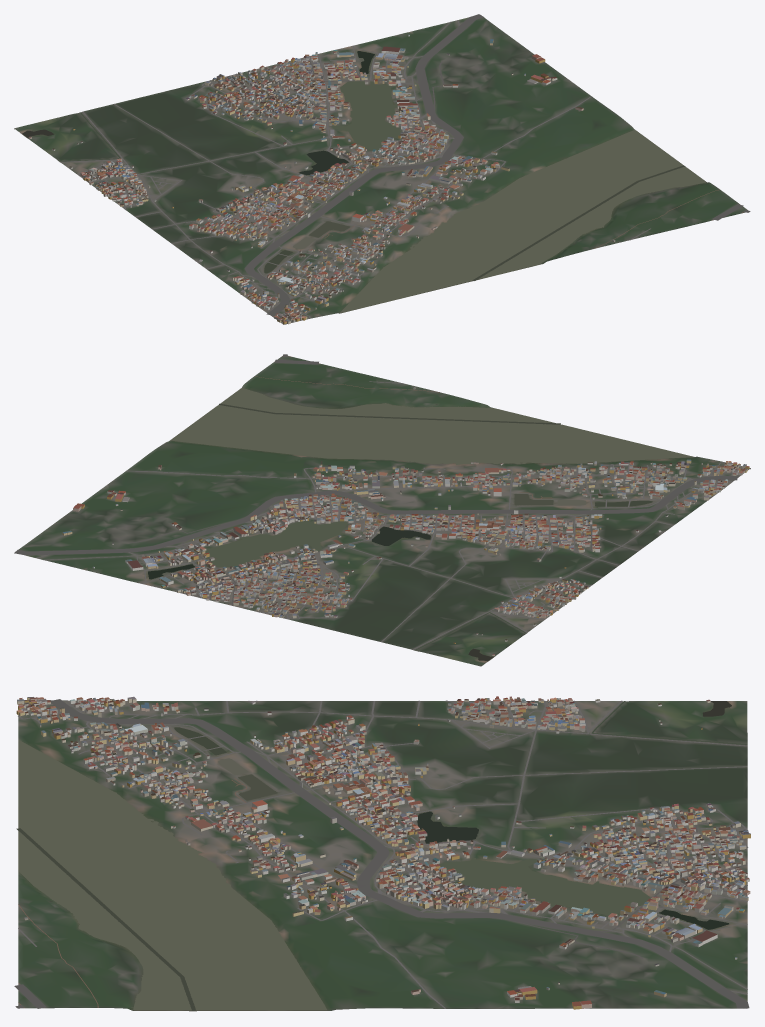
The picture shows the model from 3 angles, top to bottom: view 1: azimuth 30°, elevation 25°; view 2: azimuth 150°, elevation 25°; view 3: azimuth 270°, elevation 25°; orthographic projection. The views are drawn at different scales.
Parts seen in each view (by area): view 1: ground, water, buildings, roads; view 2: ground, water, buildings, roads; view 3: ground, water, buildings, roads.
Boxes of the visible parts, x1=… form: ground: x1=14, y1=17, x2=747, y2=324; water: x1=22, y1=51, x2=706, y2=312; buildings: x1=28, y1=34, x2=615, y2=324; roads: x1=60, y1=14, x2=750, y2=323; ground: x1=18, y1=356, x2=750, y2=666; water: x1=148, y1=388, x2=693, y2=660; buildings: x1=62, y1=387, x2=749, y2=656; roads: x1=14, y1=354, x2=748, y2=649; ground: x1=18, y1=700, x2=747, y2=1011; water: x1=16, y1=701, x2=747, y2=1010; buildings: x1=16, y1=696, x2=750, y2=1009; roads: x1=14, y1=699, x2=749, y2=1008.
Bounding box in the file's own units: 1411 × 21.22 × 1417.
